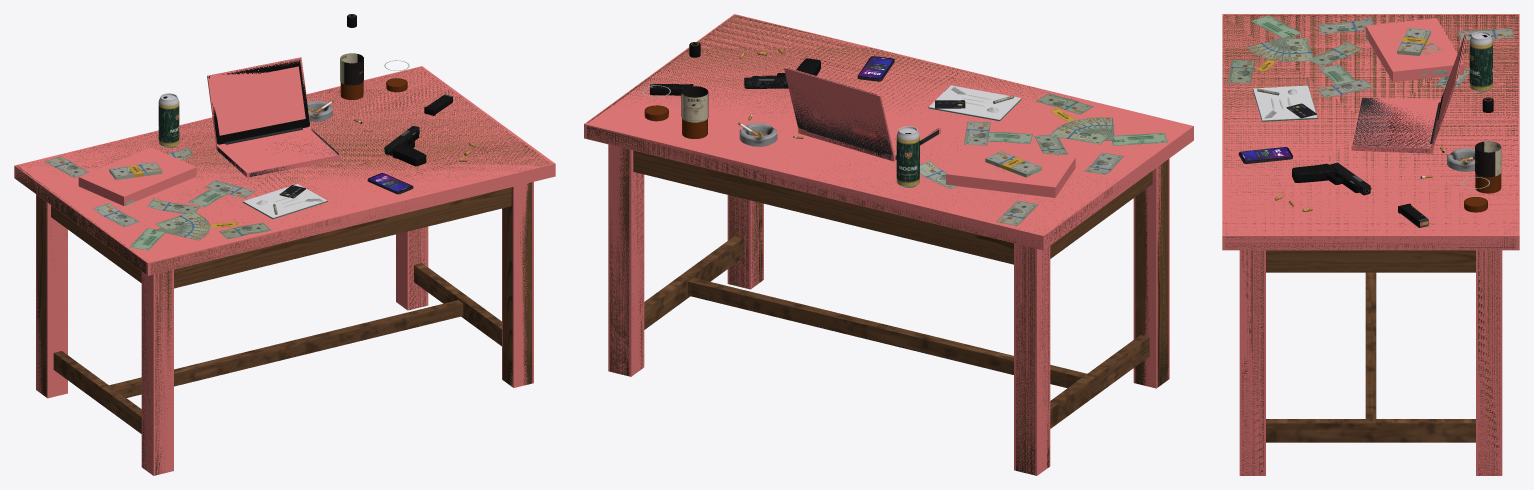
File: pulse_crime_table.fbx
3 views of the same model, side by side, from view 1: azimuth 30°, elevation 25°; view 2: azimuth 150°, elevation 25°; view 3: azimuth 270°, elevation 25° (orthographic). The views are drawn at different scales.
Visible parts, largest first — view 1: pulse_crime_table_col, pulse_crime_table_lod0; view 2: pulse_crime_table_col, pulse_crime_table_lod0; view 3: pulse_crime_table_col, pulse_crime_table_lod0.
Part boxes in pixels (x1=…): pulse_crime_table_col: x1=14, y1=57, x2=555, y2=475; pulse_crime_table_lod0: x1=16, y1=14, x2=550, y2=475; pulse_crime_table_col: x1=584, y1=14, x2=1193, y2=475; pulse_crime_table_lod0: x1=587, y1=15, x2=1168, y2=475; pulse_crime_table_col: x1=1222, y1=14, x2=1519, y2=475; pulse_crime_table_lod0: x1=1223, y1=14, x2=1518, y2=475.
Size of what is drawn, in the model's own units: 1.5 by 0.85 by 1.07.
4 materials, 3 textured.
